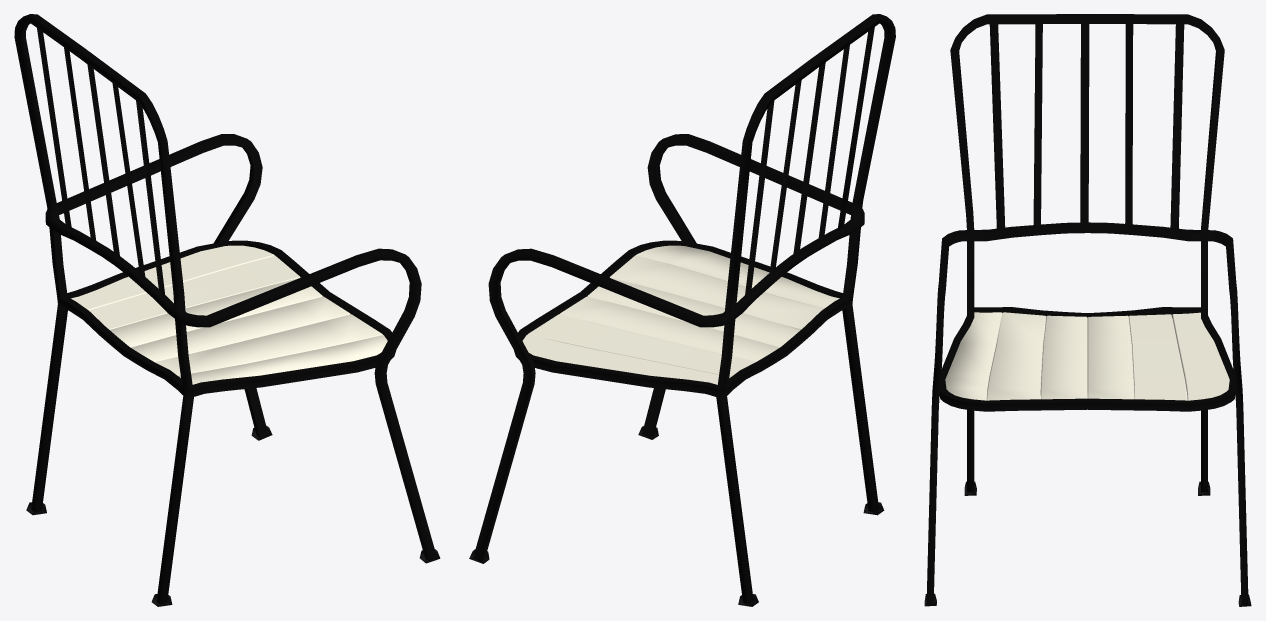
The model's file is ghe.fbx.
The picture shows the model from 3 angles, left to right: view 1: azimuth 30°, elevation 25°; view 2: azimuth 150°, elevation 25°; view 3: azimuth 270°, elevation 25°; orthographic projection. The views are drawn at different scales.
Parts seen in each view (by area): view 1: Cube, Plane, Cube.002; view 2: Cube, Plane, Cube.002; view 3: Cube, Plane, Cube.002.
Part boxes in pixels (x1,y1,x2,y2): Cube: (14,14,436,604); Plane: (71,245,387,384); Cube.002: (37,28,165,298); Cube: (473,14,895,604); Plane: (522,245,839,384); Cube.002: (744,27,874,299); Cube: (926,14,1248,605); Plane: (945,312,1229,400); Cube.002: (989,24,1184,229).
Size of the model in its own units: 398 by 716 by 449.
